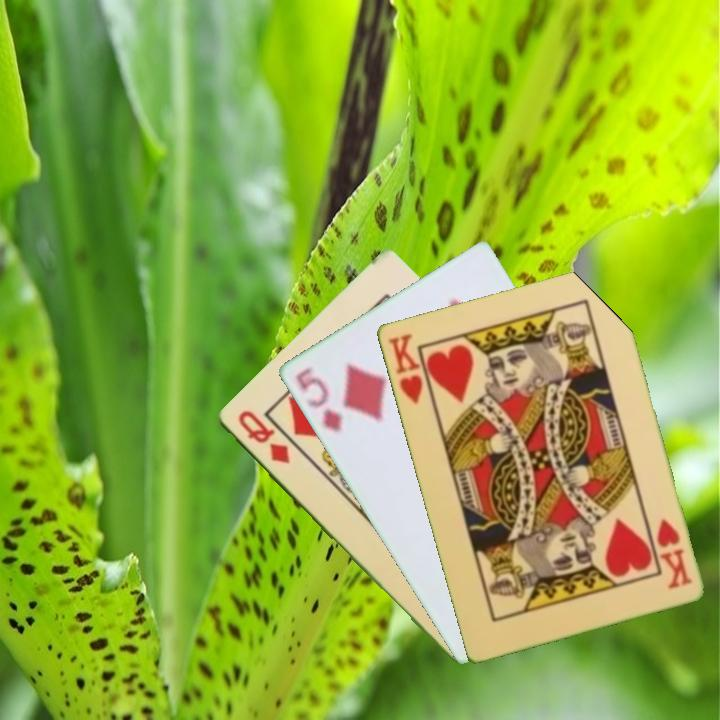5d: (291, 363, 345, 435)
Kh: (384, 329, 435, 408), (652, 514, 695, 592)
Qd: (234, 406, 293, 467)
